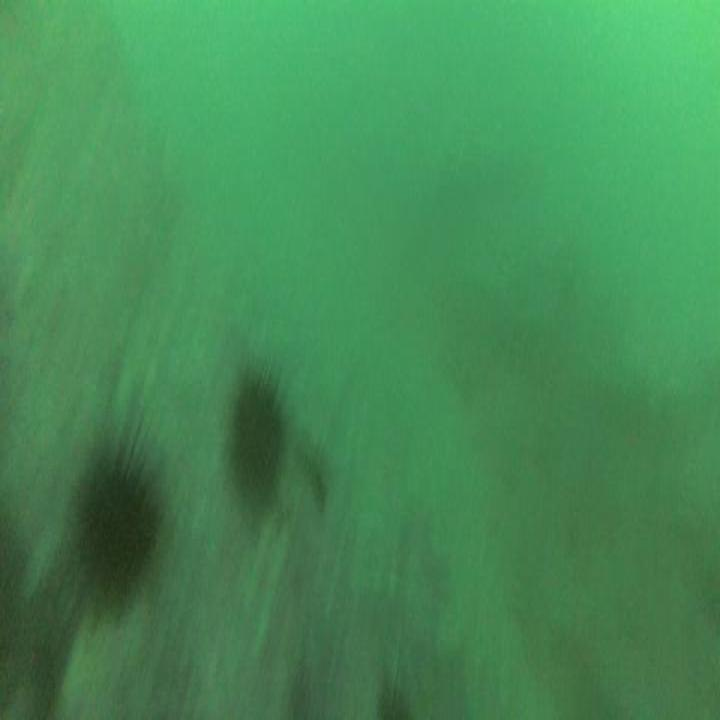echinus: (74, 464, 156, 587), (232, 377, 285, 503)
